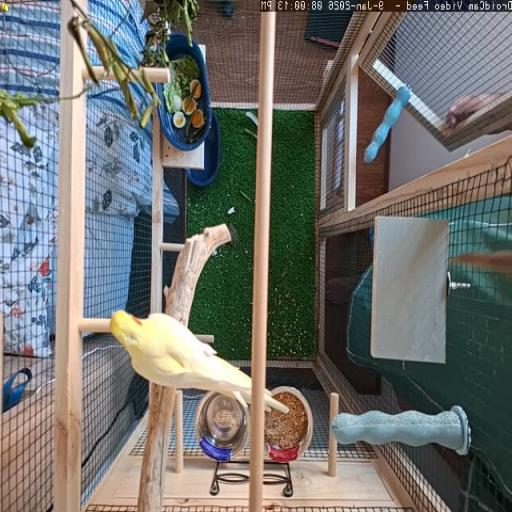bebedero: (197, 393, 250, 461)
comedero: (266, 386, 313, 462)
ninfa: (110, 310, 252, 405), (265, 389, 288, 413)
